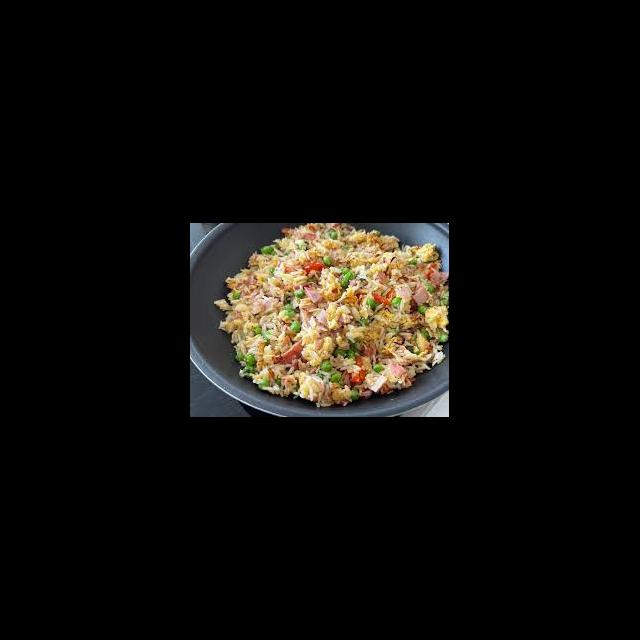food_waste: (251, 254, 442, 351)
